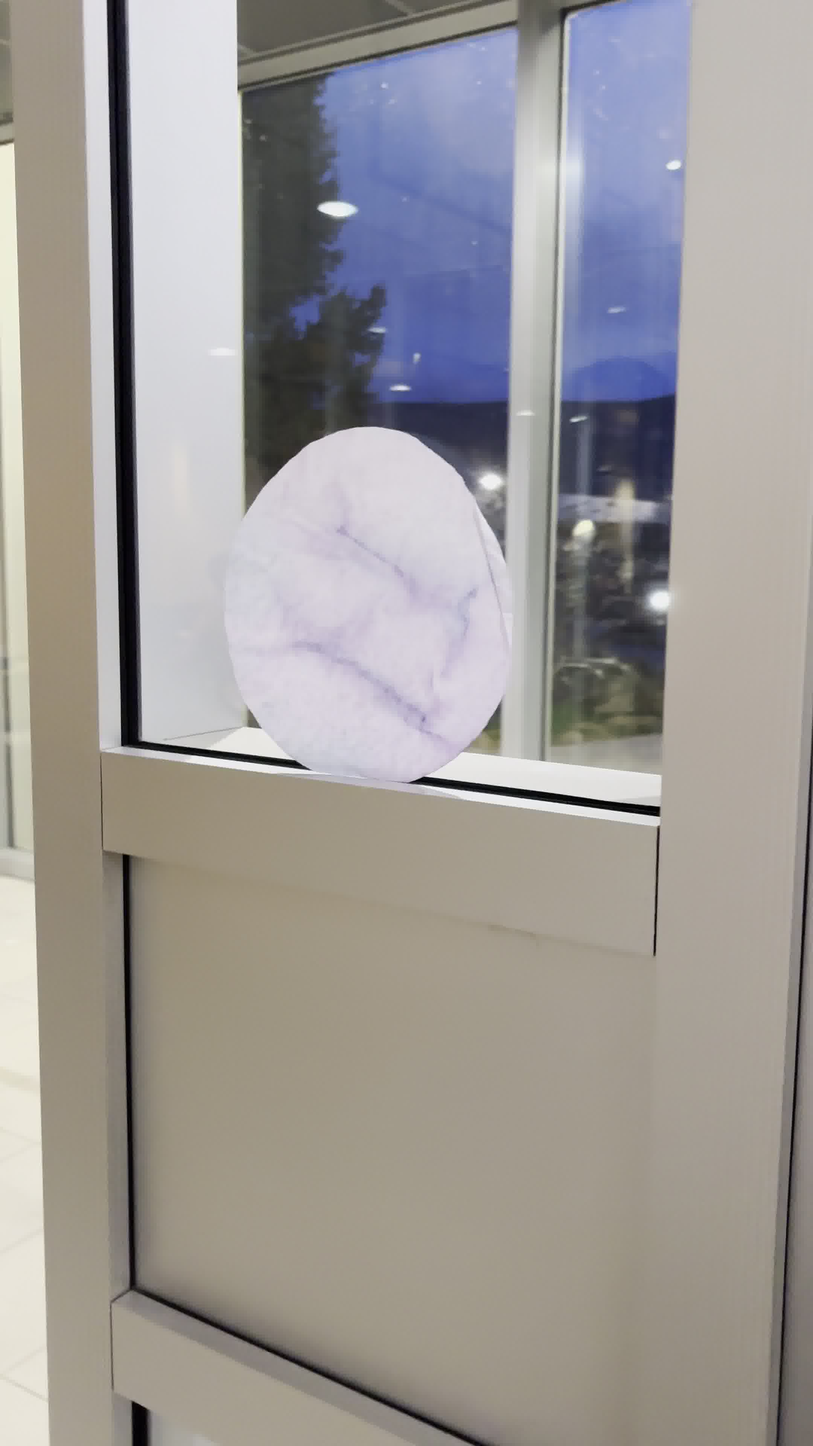Target: (221, 424, 521, 789)
